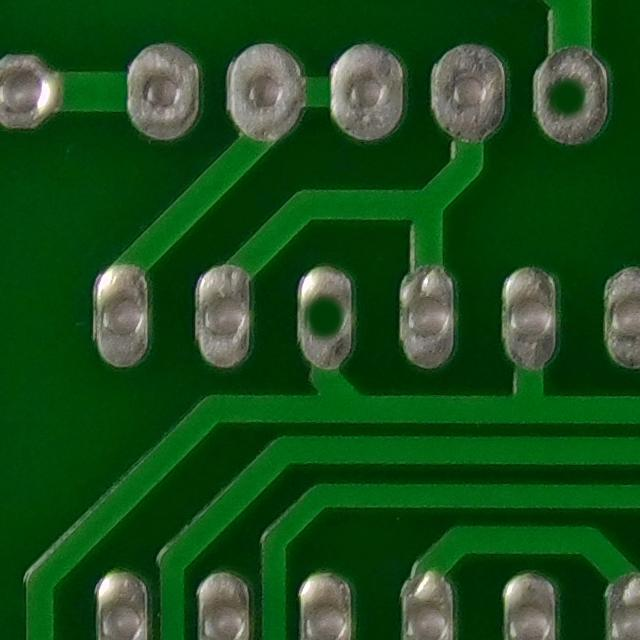missing_hole: (290, 283, 351, 357)
